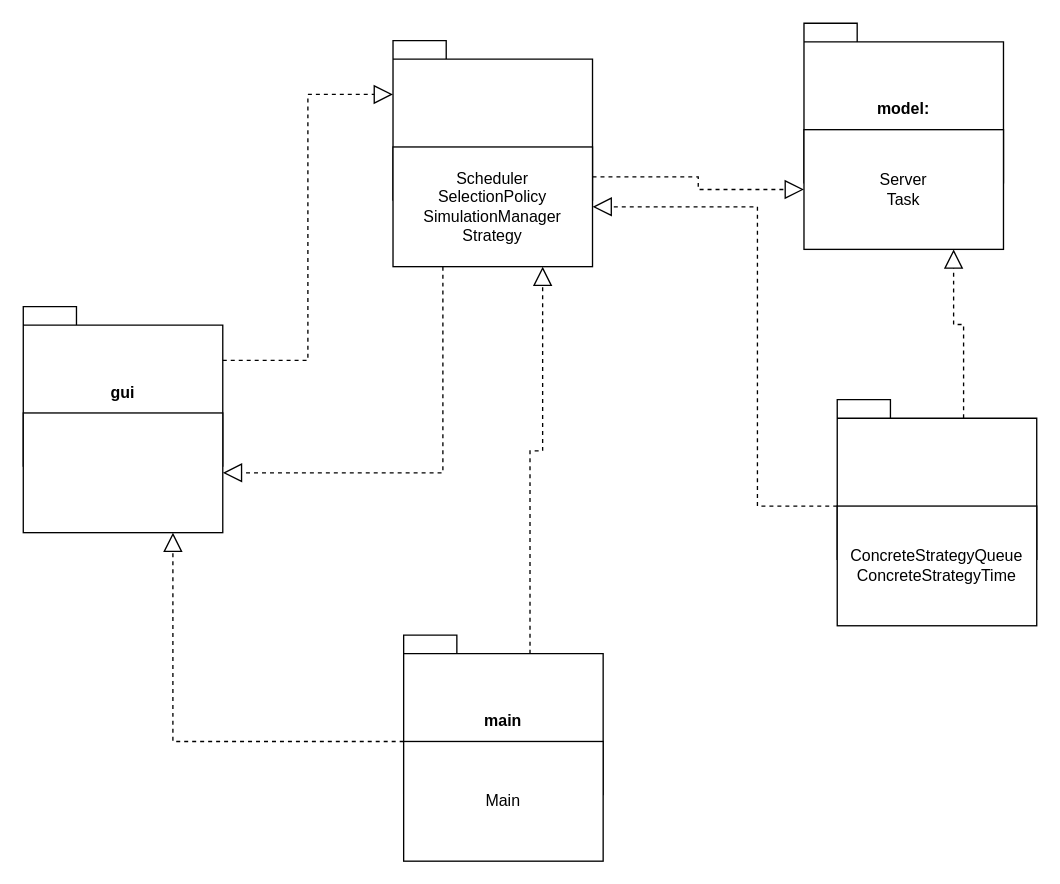
The diagram is 1060 pixels wide and 884 high, and some of its shapes have lost their labels. The shapes that lost their labels are listed below. From the top down, each one's centre as x and y in pixels, then its label:
At point 492,119: "business logic".
At point 122,472: "SimulationFrameCopy SimulationFrame QueueAnimationPanel AnimatedClient".
At point 936,478: "Strategy".
